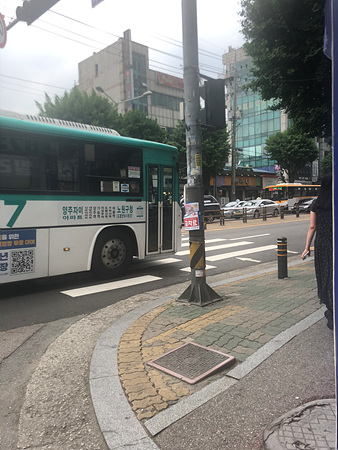entrance: (144, 162, 177, 256)
